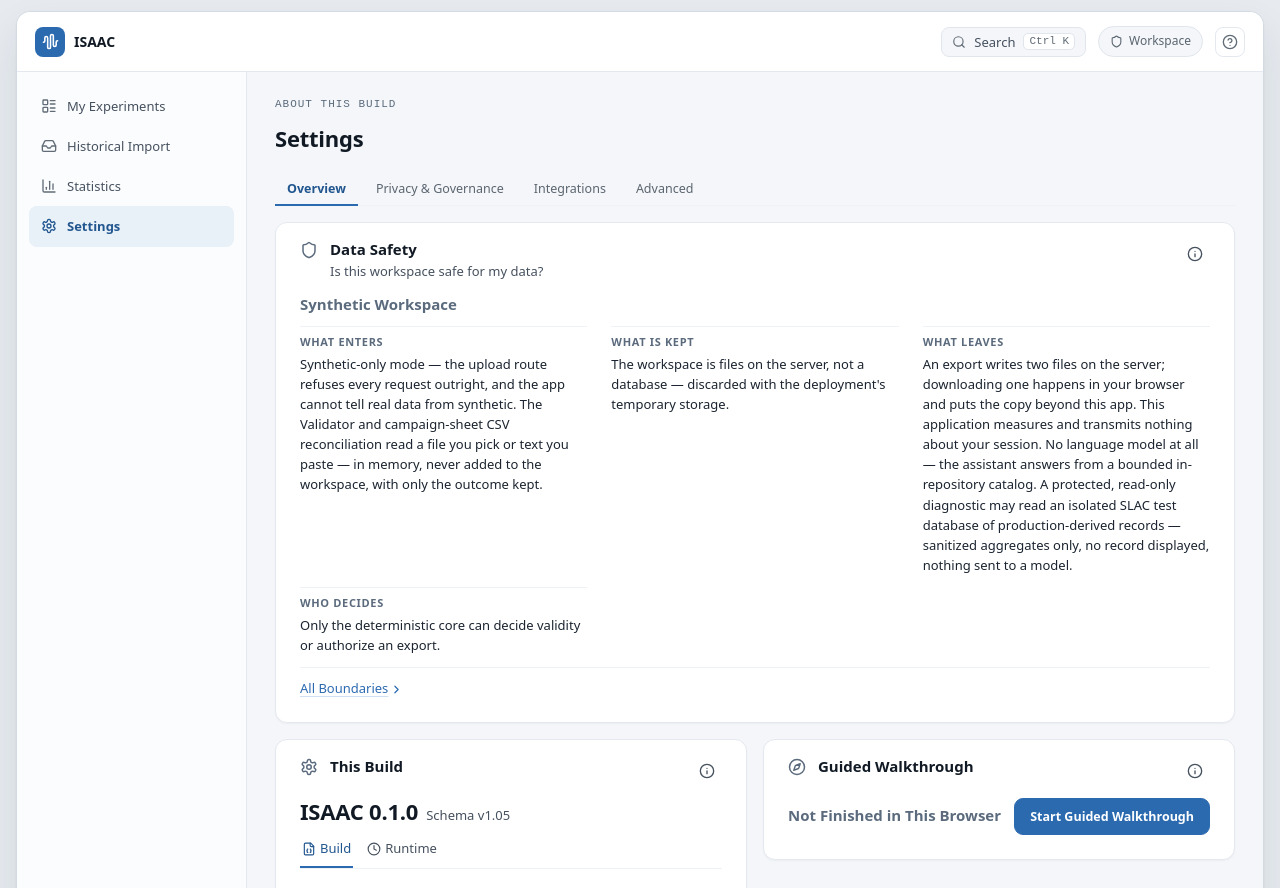
Test: Settings — Overview › does not claim a restart clears state, nor that access restriction is always external
Expected: the text "The workspace is files on the server, not a database" is shown, top-left (611, 355), bottom-right (885, 413)
Click the tab "Privacy & Governance" at [440, 190], box top-left (364, 173), bottom-right (516, 206)
(page scrolled)
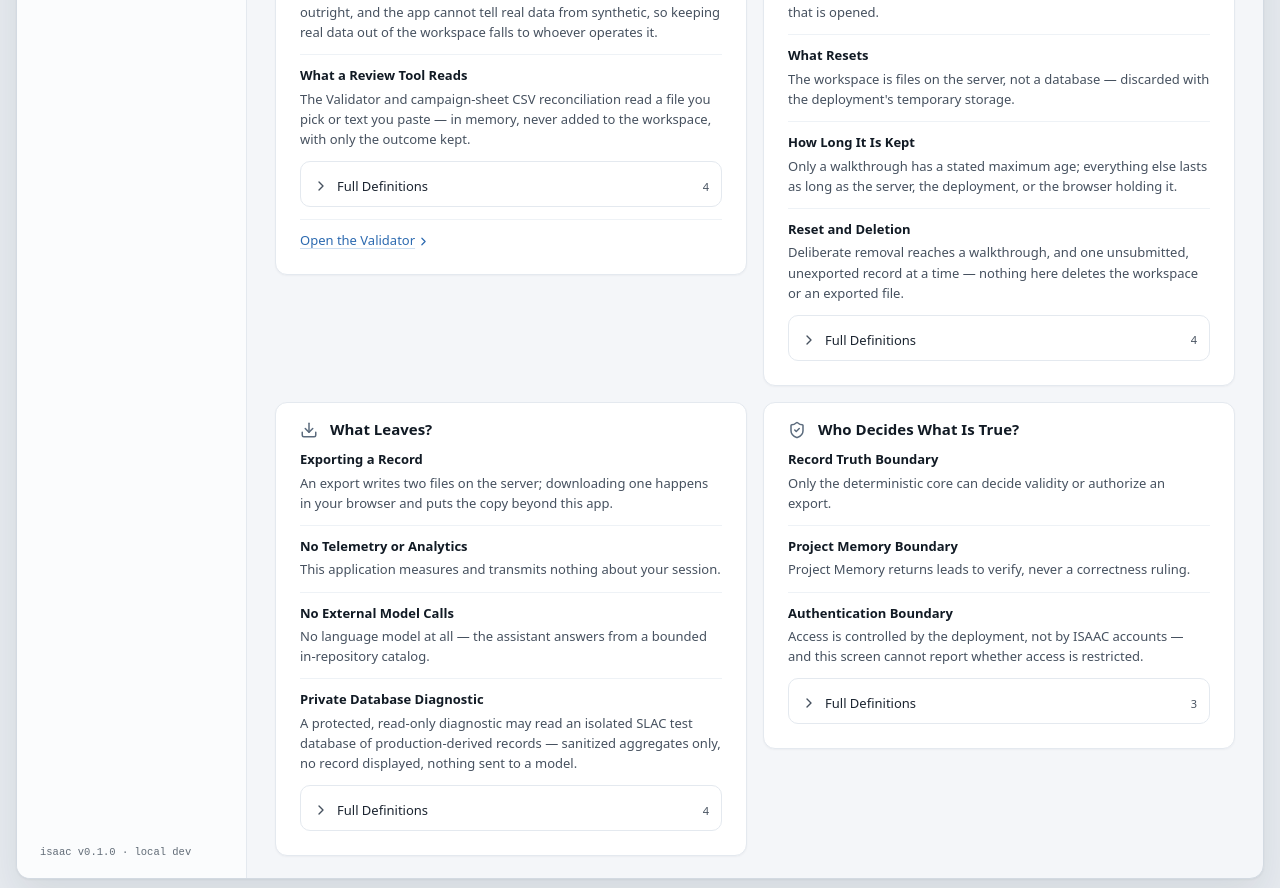
Result: the text "this screen cannot report whether access is restricted" is shown at top-left (788, 627), bottom-right (1184, 665)
